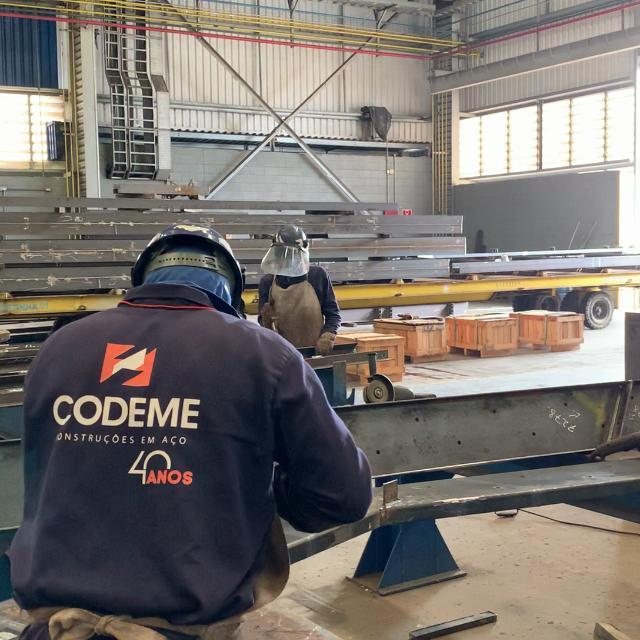eye-glass: (259, 244, 312, 278)
face-shield: (312, 333, 332, 358)
glove: (130, 221, 247, 301), (271, 224, 310, 248)
mask: (6, 222, 375, 627), (257, 222, 343, 357)
